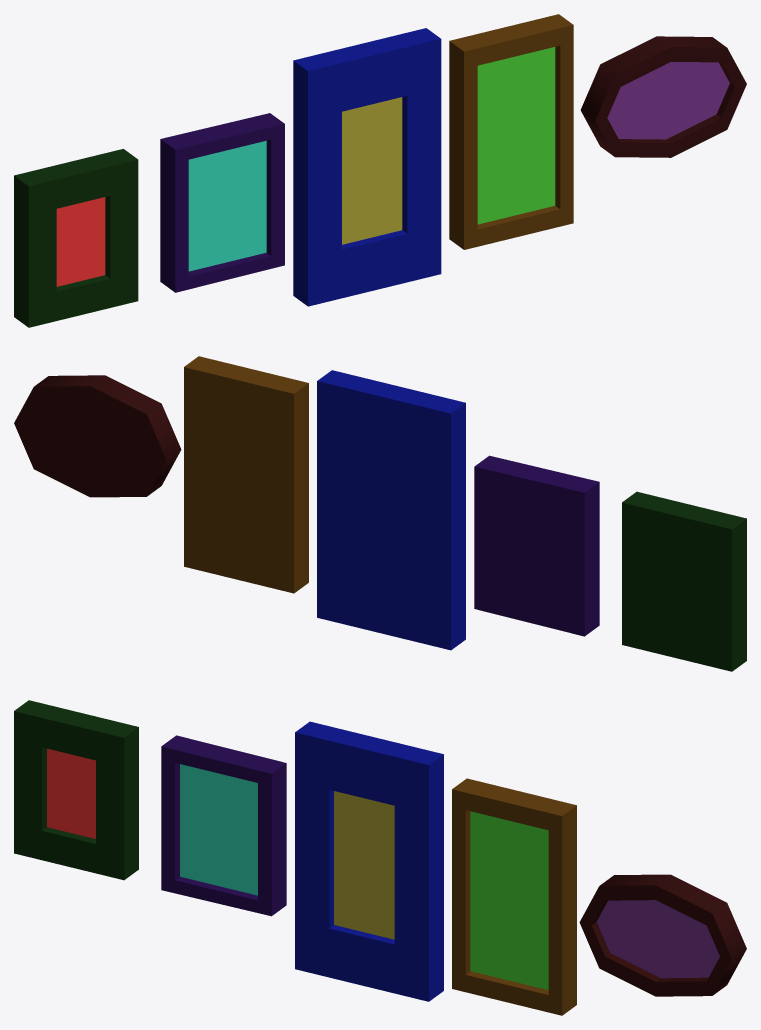
The model's file is Destructable_WallStuff_PictureFrames.FBX.
3 renders of one model, top to bottom at view 1: azimuth 30°, elevation 25°; view 2: azimuth 150°, elevation 25°; view 3: azimuth 330°, elevation 25°, orthographic.
Parts seen in each view (by area): view 1: Destructable_WallStuff_PictureFrame04, Destructable_WallStuff_PictureFrame03, Destructable_WallStuff_PictureFrame01, Destructable_WallStuff_PictureFrame00, Destructable_WallStuff_PictureFrame02; view 2: Destructable_WallStuff_PictureFrame04, Destructable_WallStuff_PictureFrame03, Destructable_WallStuff_PictureFrame01, Destructable_WallStuff_PictureFrame00, Destructable_WallStuff_PictureFrame02; view 3: Destructable_WallStuff_PictureFrame04, Destructable_WallStuff_PictureFrame03, Destructable_WallStuff_PictureFrame01, Destructable_WallStuff_PictureFrame00, Destructable_WallStuff_PictureFrame02.
Part boxes in pixels (x1,y1,x2,y2): Destructable_WallStuff_PictureFrame04: (293,28,441,306); Destructable_WallStuff_PictureFrame03: (449,14,573,249); Destructable_WallStuff_PictureFrame01: (160,113,284,292); Destructable_WallStuff_PictureFrame00: (14,149,138,327); Destructable_WallStuff_PictureFrame02: (580,36,746,157); Destructable_WallStuff_PictureFrame04: (317,370,465,650); Destructable_WallStuff_PictureFrame03: (184,356,308,593); Destructable_WallStuff_PictureFrame01: (474,455,599,636); Destructable_WallStuff_PictureFrame00: (622,491,746,671); Destructable_WallStuff_PictureFrame02: (14,375,181,497); Destructable_WallStuff_PictureFrame04: (295,721,443,1001); Destructable_WallStuff_PictureFrame03: (452,778,576,1015); Destructable_WallStuff_PictureFrame01: (161,735,286,916); Destructable_WallStuff_PictureFrame00: (14,700,138,880); Destructable_WallStuff_PictureFrame02: (579,874,746,996).
Bounding box in the file's own units: 650 × 204 × 26.87.
